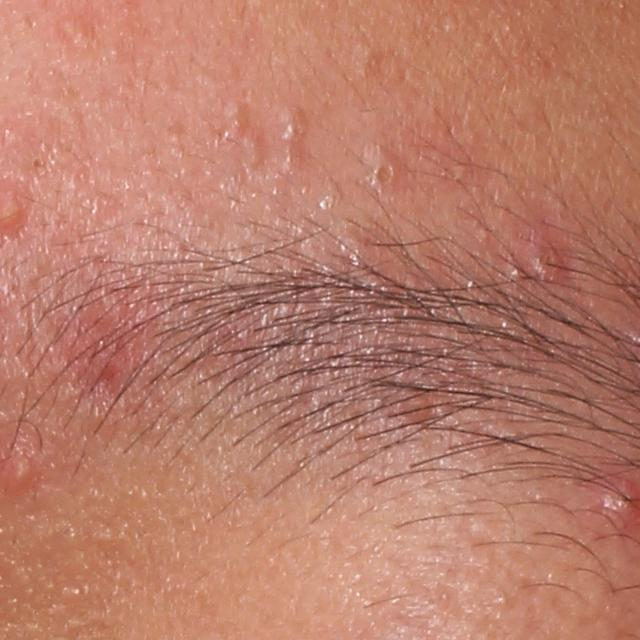comedo: (368, 160, 402, 192), (275, 117, 309, 144), (222, 98, 248, 126), (31, 153, 46, 168)
pustule: (529, 243, 582, 287), (7, 451, 36, 493)
